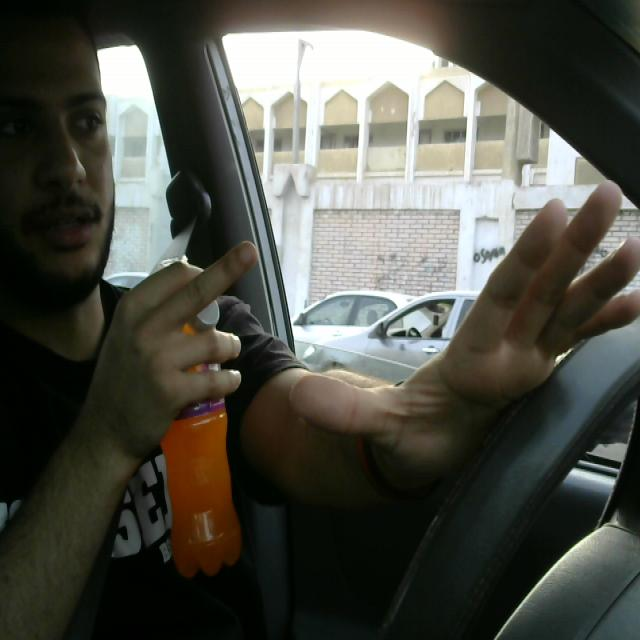drinking: (151, 258, 248, 580)
